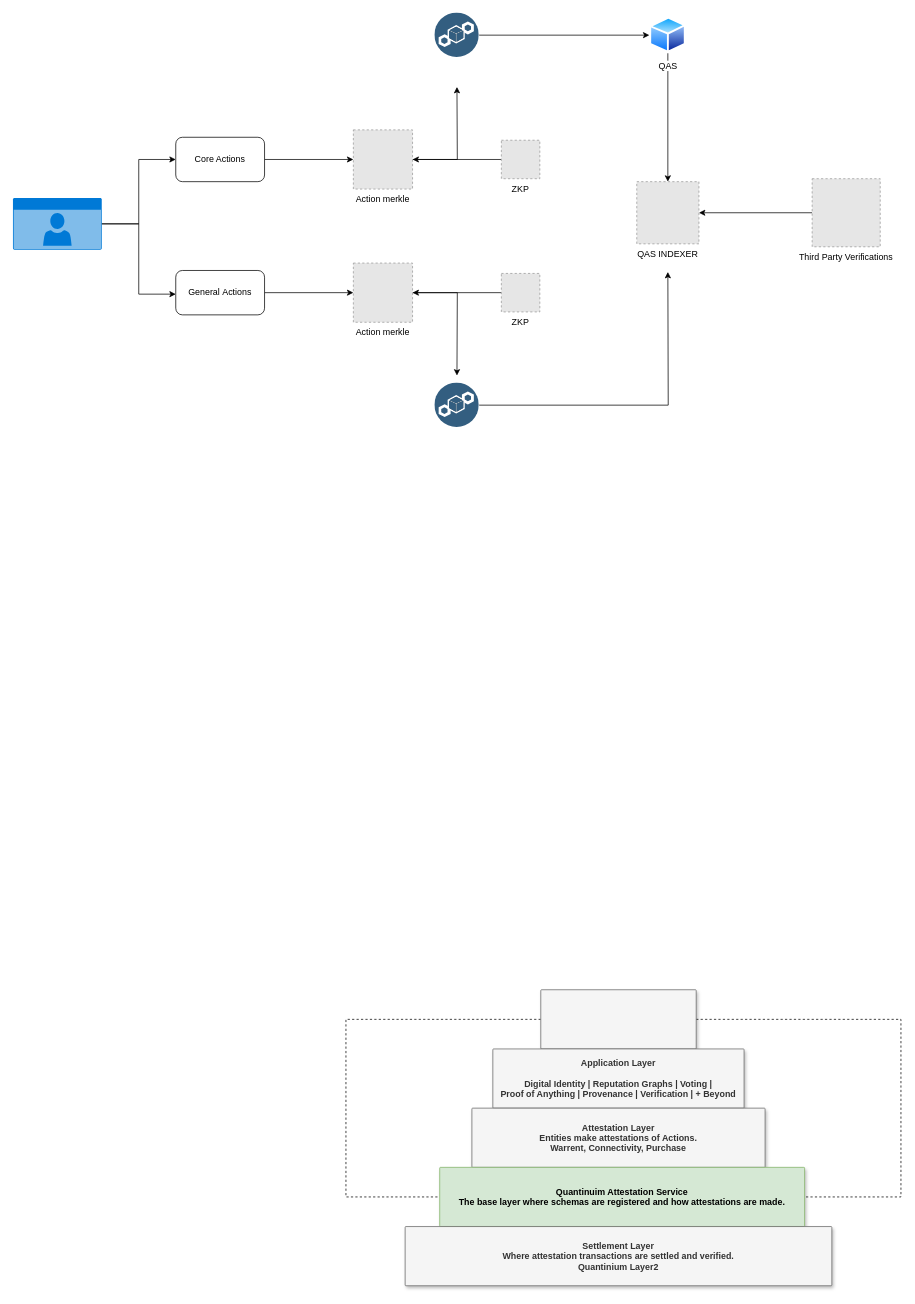
This 915x1304 diagram has some shape labels left out. Grey dashed boxes stand in for pictures. Each missing label, with the centre of its shape:
"Actions Action Attestations creation. Onchain & Onchain" belongs at [619,1020].
"Actions Offchain Attestations" belongs at [456,405].
"Actions Onchain Attestations" belongs at [456,35].
"DID" belongs at [57,223].
